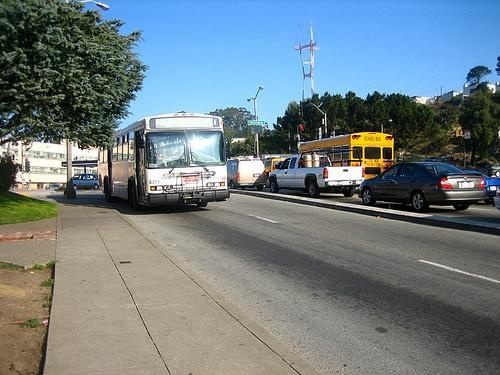bus: (98, 113, 230, 213), (298, 133, 395, 181)
car: (360, 163, 486, 214), (267, 156, 362, 198), (230, 159, 264, 188), (73, 176, 100, 192)
